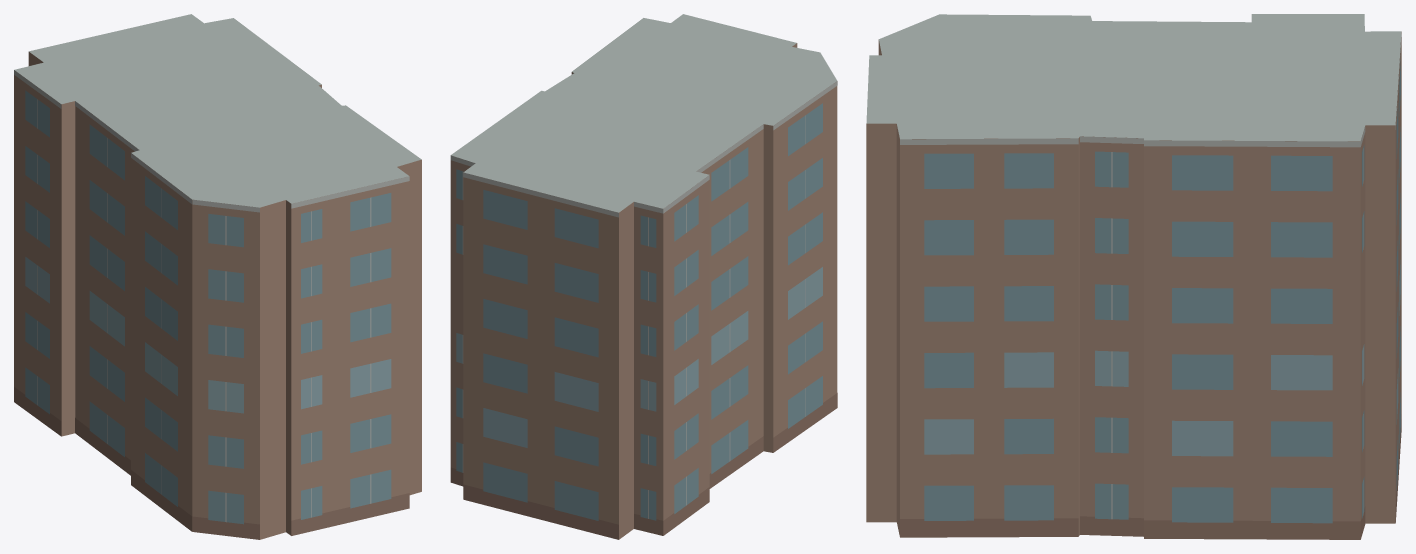
Rendered from survey-upis-32749142.glb.
3 views of the same model, side by side, from view 1: azimuth 30°, elevation 25°; view 2: azimuth 150°, elevation 25°; view 3: azimuth 270°, elevation 25° (orthographic). The views are drawn at different scales.
Visible parts, largest first — view 1: survey-upis-32749142.tmp; view 2: survey-upis-32749142.tmp; view 3: survey-upis-32749142.tmp.
Part boxes in pixels (left/top/right/bottom): survey-upis-32749142.tmp: left=14, top=14, right=421, bottom=539; survey-upis-32749142.tmp: left=450, top=14, right=837, bottom=539; survey-upis-32749142.tmp: left=866, top=14, right=1401, bottom=539.
Size of the model in its own units: 11.4 by 16.6 by 20.21.
